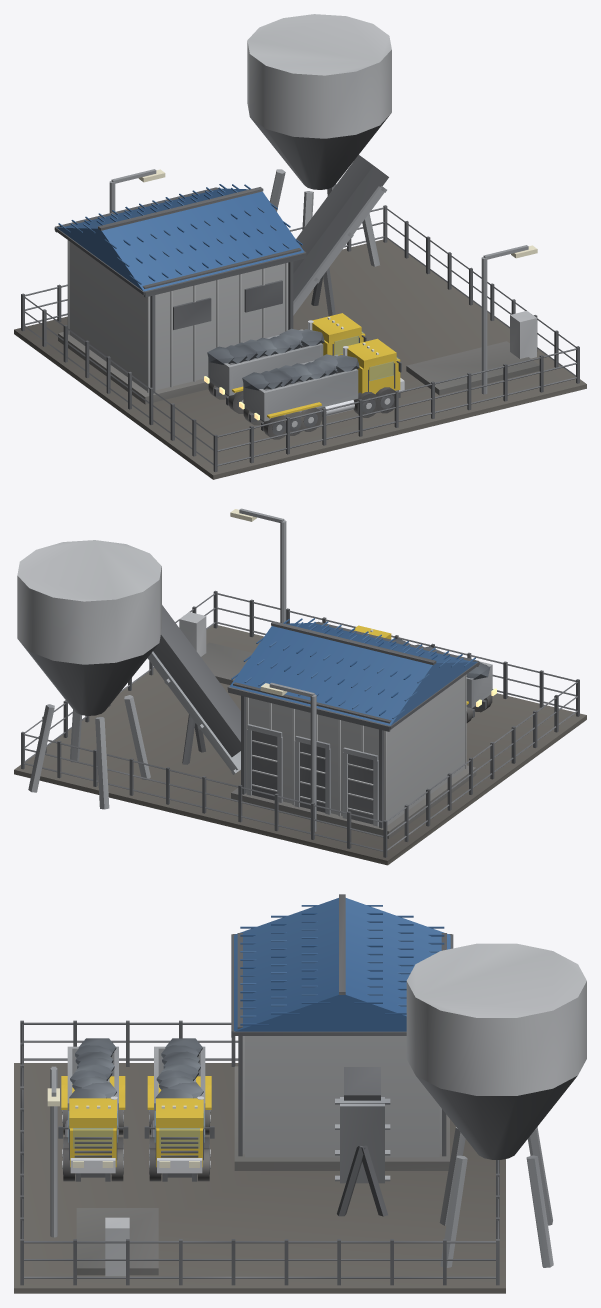
File: Haul_P2.fbx
3 renders of one model, top to bottom at view 1: azimuth 30°, elevation 25°; view 2: azimuth 150°, elevation 25°; view 3: azimuth 270°, elevation 25°, orthographic. The views are drawn at different scales.
Visible parts, largest first — view 1: Haul.Workshop, Haul.Yard, Haul.Hopper, Haul.Parked1, Haul.Fence, Haul.Conv, Haul.Parked0, Haul.Weighbridge, Haul.Lamp0, Haul.Lamp1; view 2: Haul.Workshop, Haul.Yard, Haul.Hopper, Haul.Fence, Haul.Conv, Haul.Weighbridge, Haul.Parked1, Haul.Lamp1, Haul.Lamp0; view 3: Haul.Yard, Haul.Workshop, Haul.Hopper, Haul.Fence, Haul.Parked0, Haul.Parked1, Haul.Conv, Haul.Weighbridge, Haul.Lamp0.
Part boxes in pixels (x1,y1,x2,y2): Haul.Workshop: [54, 184, 306, 404]; Haul.Yard: [14, 239, 586, 479]; Haul.Hopper: [247, 14, 391, 266]; Haul.Parked1: [239, 338, 404, 439]; Haul.Fence: [21, 205, 579, 472]; Haul.Conv: [293, 155, 388, 316]; Haul.Parked0: [204, 313, 366, 413]; Haul.Weighbridge: [406, 311, 539, 395]; Haul.Lamp0: [481, 245, 537, 394]; Haul.Lamp1: [109, 169, 165, 212]; Haul.Workshop: [227, 618, 479, 838]; Haul.Yard: [14, 625, 586, 865]; Haul.Hopper: [17, 540, 161, 809]; Haul.Fence: [21, 590, 579, 857]; Haul.Conv: [148, 605, 240, 774]; Haul.Weighbridge: [179, 612, 252, 684]; Haul.Parked1: [354, 625, 496, 722]; Haul.Lamp1: [260, 682, 316, 831]; Haul.Lamp0: [230, 508, 286, 623]; Haul.Yard: [14, 1063, 505, 1293]; Haul.Workshop: [231, 894, 453, 1170]; Haul.Hopper: [406, 943, 586, 1267]; Haul.Fence: [20, 1020, 499, 1285]; Haul.Parked0: [144, 1038, 214, 1181]; Haul.Parked1: [58, 1038, 128, 1181]; Haul.Conv: [335, 1067, 390, 1216]; Haul.Weighbridge: [76, 1208, 158, 1276]; Haul.Lamp0: [47, 1066, 59, 1237].
Size of the model in its own units: 2600 by 1456 by 2795.
